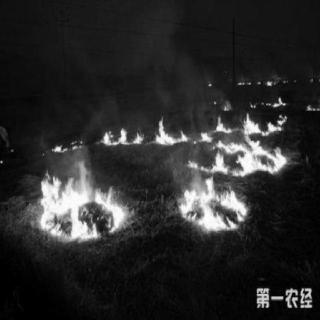Fire: (30, 173, 131, 239), (180, 176, 259, 236), (55, 124, 288, 138)
